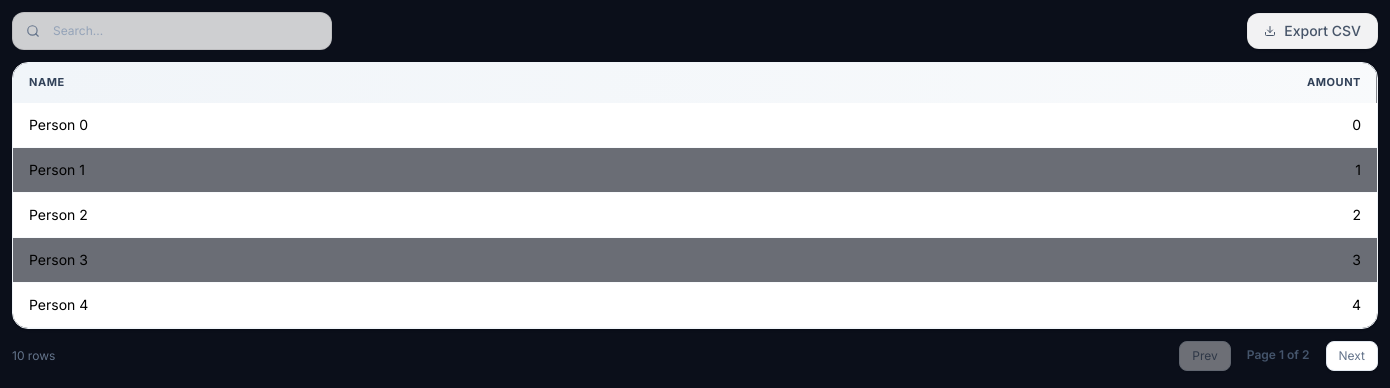
DataTable › navigates pages with Next/Prev buttons
Expected: the text "Person 0" is shown, x1=13 y1=103 x2=716 y2=147
Click the button "Next": (1352, 356) x1=1326 y1=341 x2=1378 y2=371
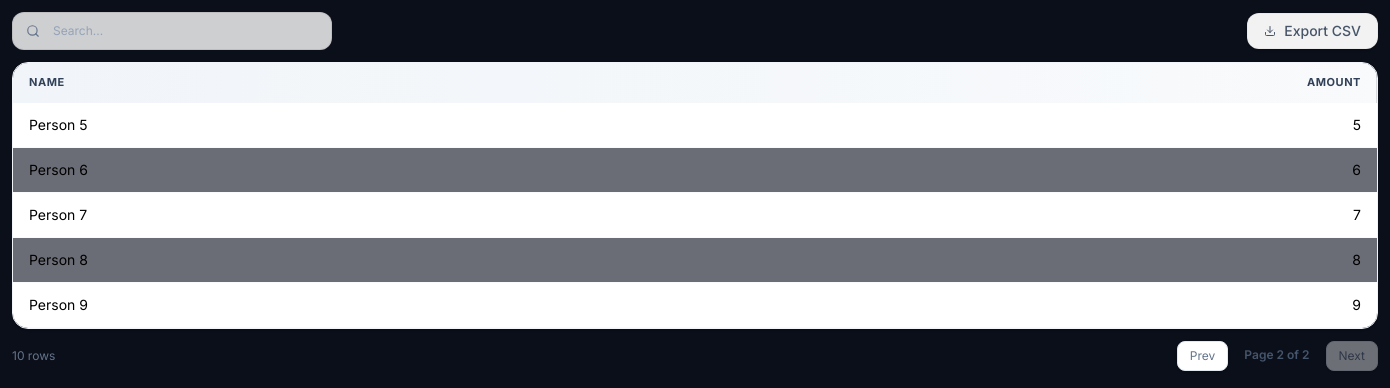
Expected: the text "Person 5" is shown, x1=13 y1=103 x2=714 y2=147
Expected: the text "Person 0" is gone
Click the button "Prev": (1203, 356) x1=1177 y1=341 x2=1228 y2=371
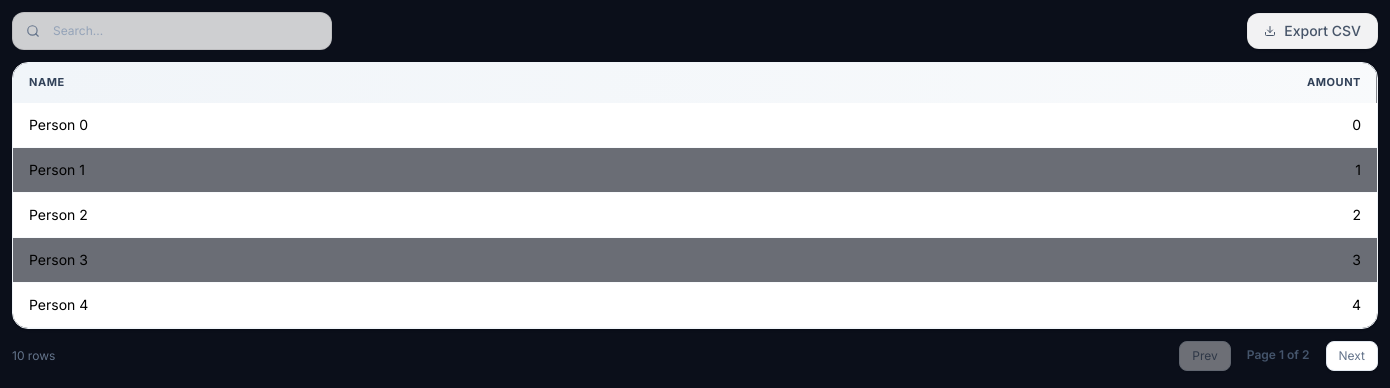
Expected: the text "Person 0" is shown, x1=13 y1=103 x2=716 y2=147
